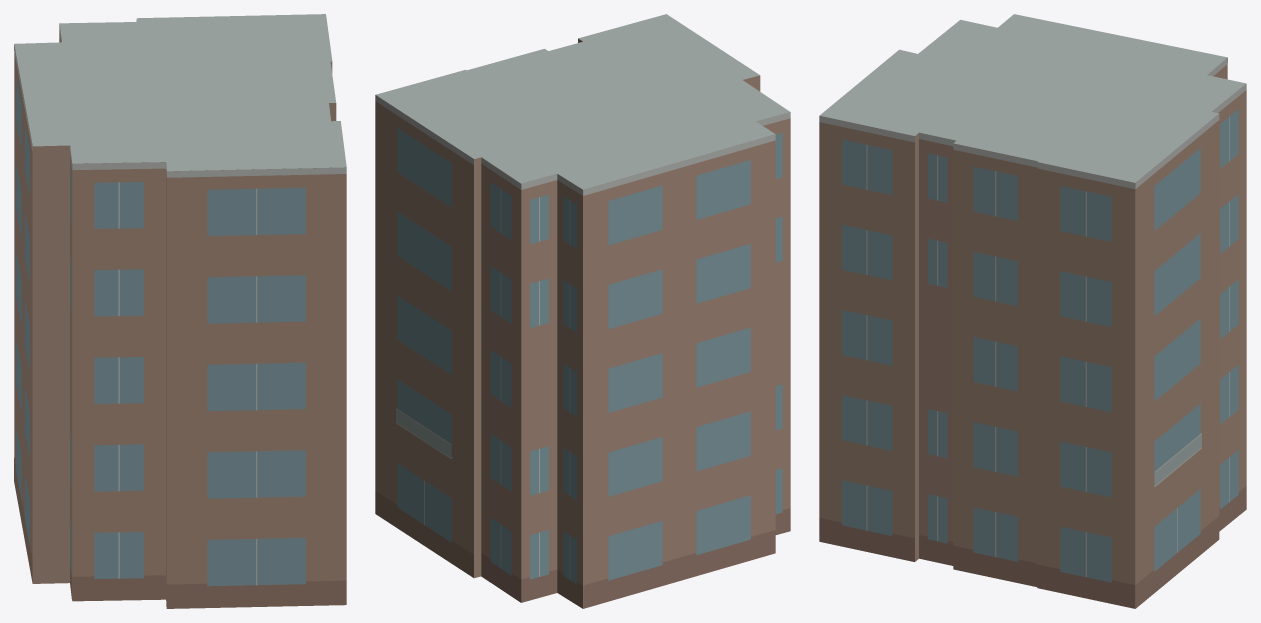
The model's file is survey-upis-32930894.glb.
3 views of the same model, side by side, from view 1: azimuth 30°, elevation 25°; view 2: azimuth 150°, elevation 25°; view 3: azimuth 270°, elevation 25° (orthographic). The views are drawn at different scales.
Visible parts, largest first — view 1: survey-upis-32930894.tmp; view 2: survey-upis-32930894.tmp; view 3: survey-upis-32930894.tmp.
Part boxes in pixels (x1,y1,x2,y2): survey-upis-32930894.tmp: (14, 14, 346, 608); survey-upis-32930894.tmp: (375, 14, 790, 608); survey-upis-32930894.tmp: (819, 14, 1246, 608).
Bounding box in the file's own units: 13.91 × 16.35 × 14.87.
